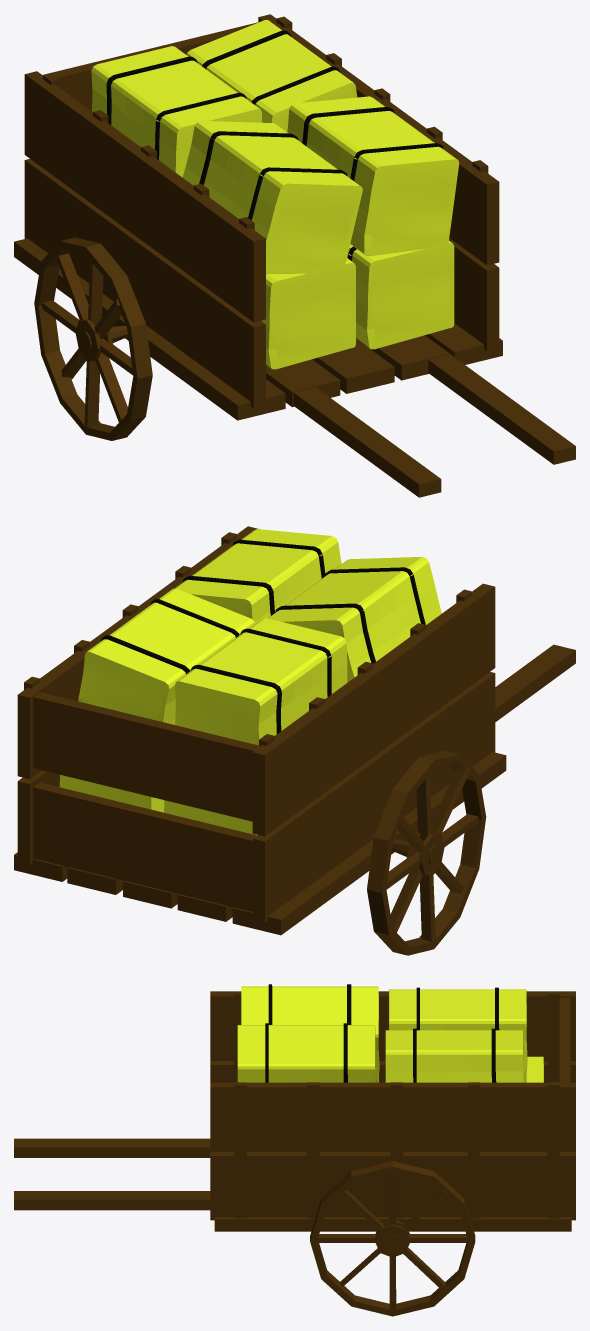
Rendered from I_Hay_Cart 1.fbx.
3 views of the same model, one above another, from view 1: azimuth 30°, elevation 25°; view 2: azimuth 150°, elevation 25°; view 3: azimuth 270°, elevation 25° (orthographic). The views are drawn at different scales.
Parts seen in each view (by area): view 1: Cube.010; view 2: Cube.010; view 3: Cube.010.
Part boxes in pixels (<box>): Cube.010: <box>14,14,575,497</box>; Cube.010: <box>14,526,575,955</box>; Cube.010: <box>14,984,575,1316</box>.
Bounding box in the file's own units: 192 × 154 × 331.
